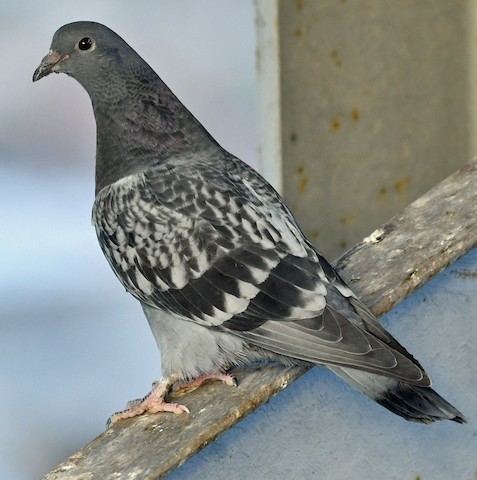pigeon: (28, 18, 471, 440)
